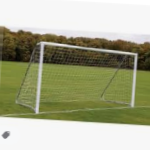goals: (15, 40, 140, 115)
